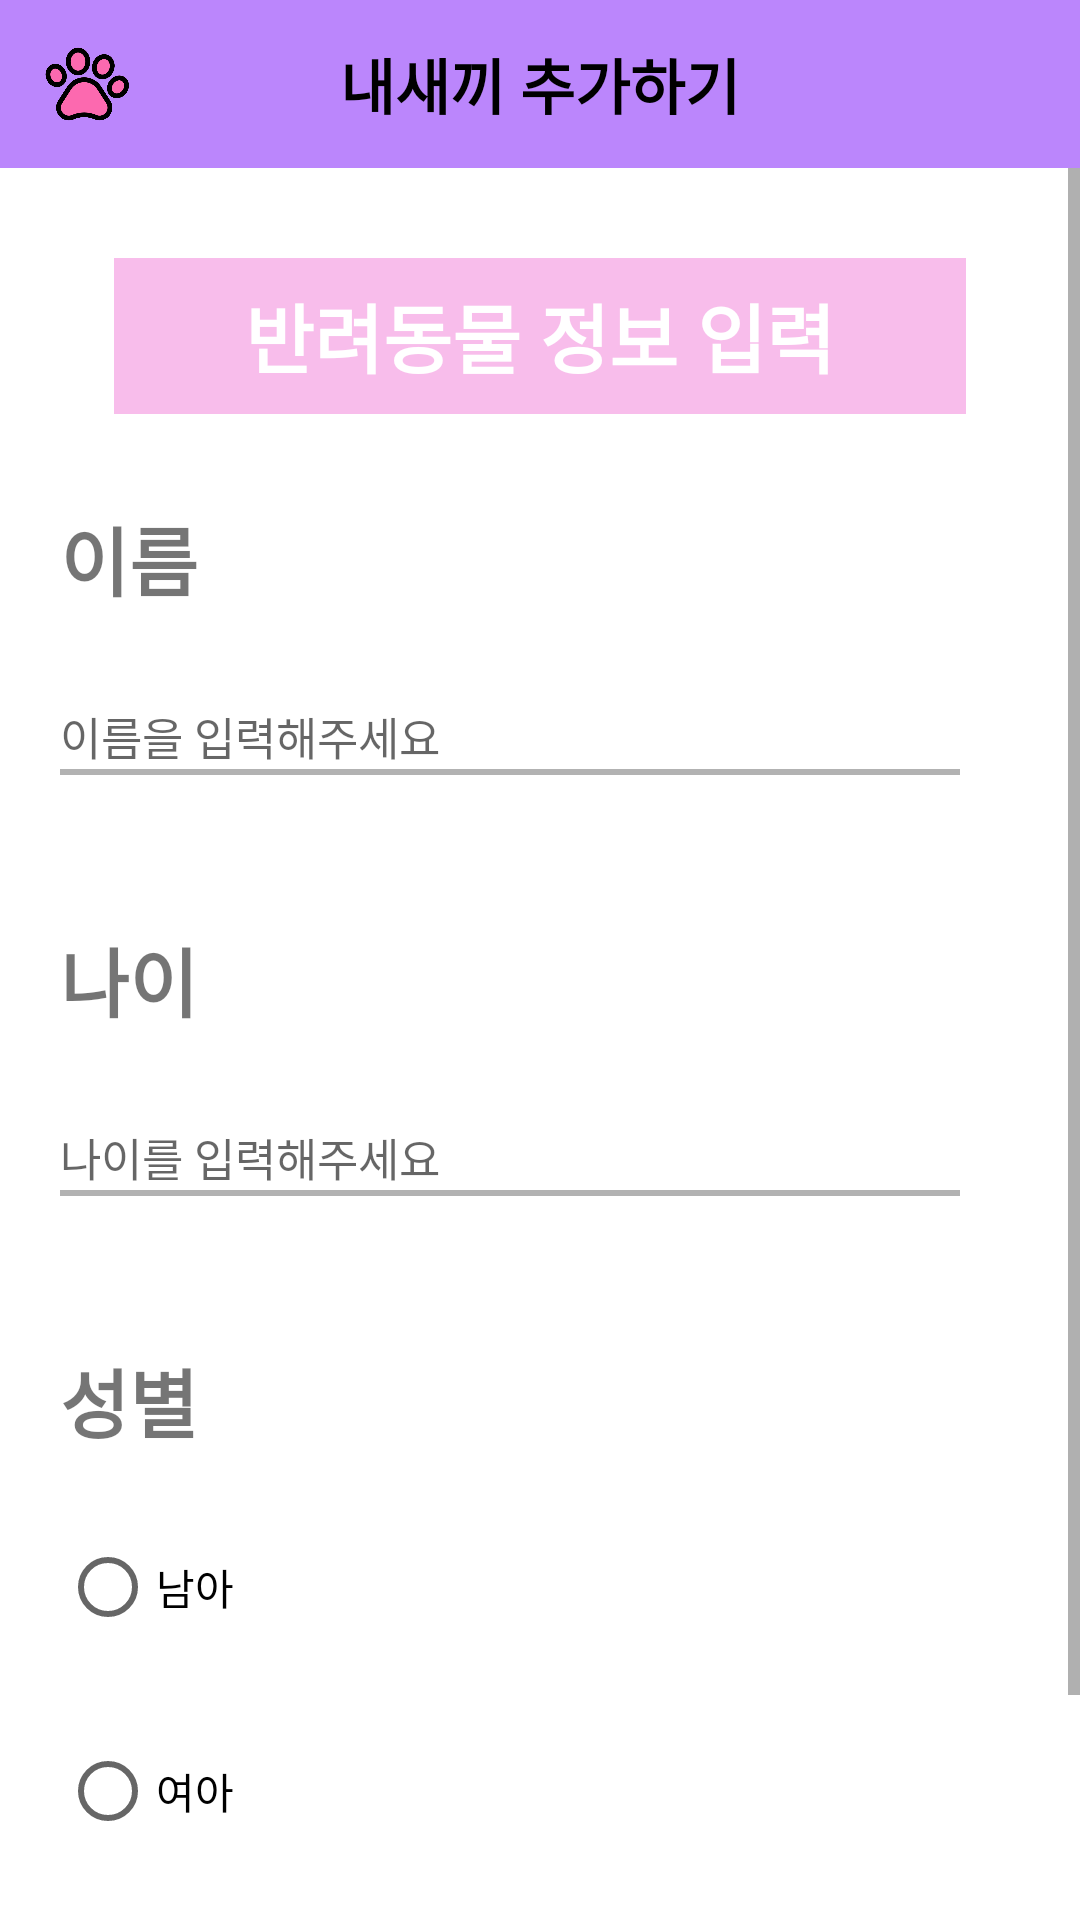

Icons on this 1080x1920 Android screen, each with the point to tap as (x,y):
pawprint on: (87,84)
